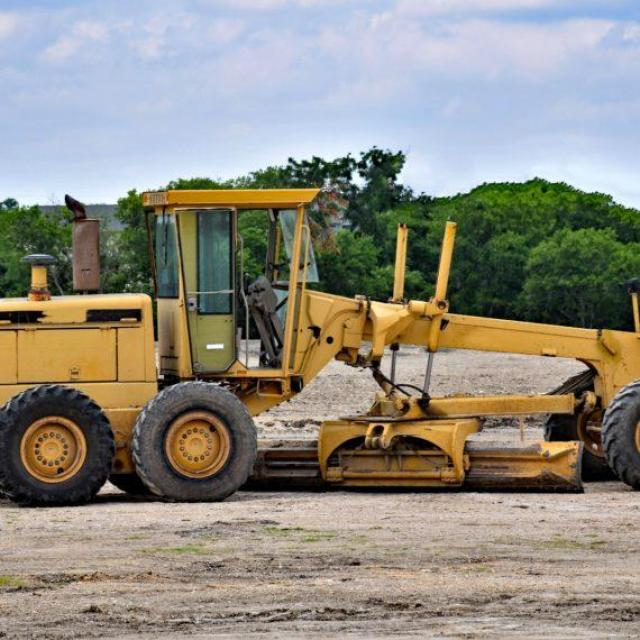bull_dozer/loader/grader: (2, 172, 639, 511)
